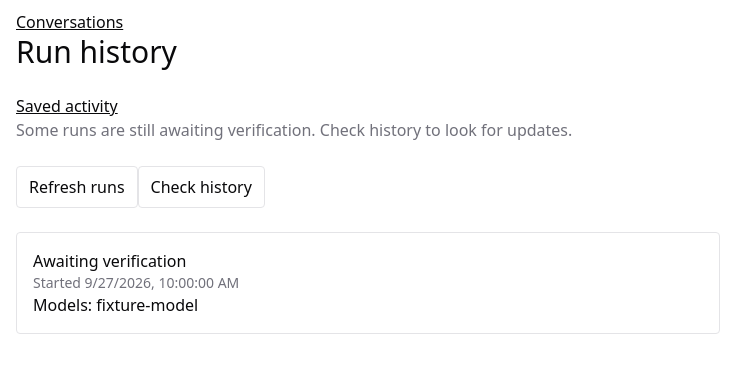
Test case: verifies saved boundaries with a fresh credential and refreshes the public summary
expect the heading "Awaiting verification" is shown: met, box [33,250,186,272]
Click the button "Check history".
click(201, 187)  # box [138,166,265,208]
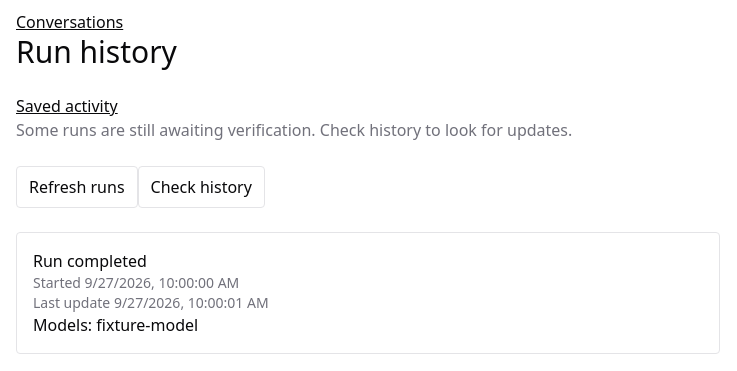
expect the heading "Run completed" is shown: met, box [33,250,147,272]
